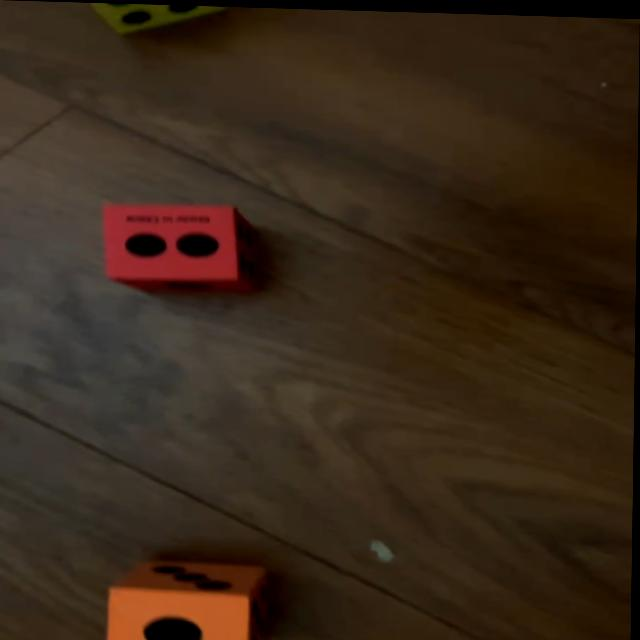red_block: (105, 202, 252, 294)
